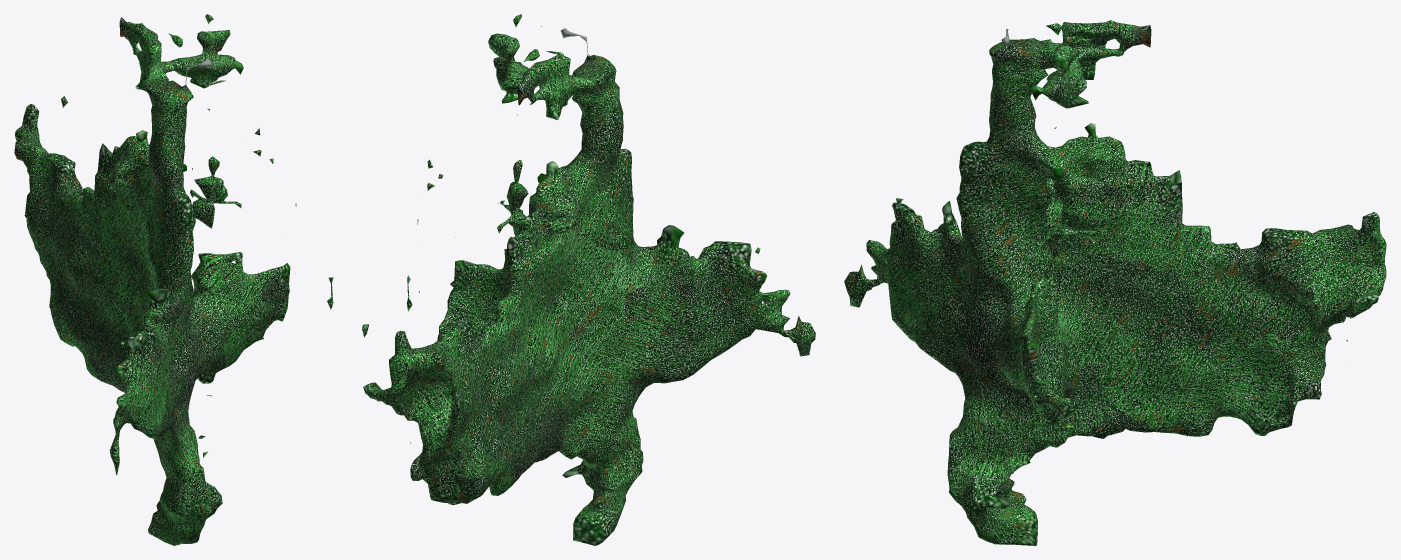
Rendered from glass2gruen.glb.
3 views of the same model, side by side, from view 1: azimuth 30°, elevation 25°; view 2: azimuth 150°, elevation 25°; view 3: azimuth 270°, elevation 25° (orthographic). The views are drawn at different scales.
Visible parts, largest first — view 1: lagrange_node; view 2: lagrange_node; view 3: lagrange_node.
Part boxes in pixels (<box>): lagrange_node: <box>14,14,333,545</box>; lagrange_node: <box>362,14,815,545</box>; lagrange_node: <box>844,20,1386,545</box>.
Size of the model in its own units: 0.8431 by 1.32 by 1.19.
Materials: 1 (1 with a texture image).
